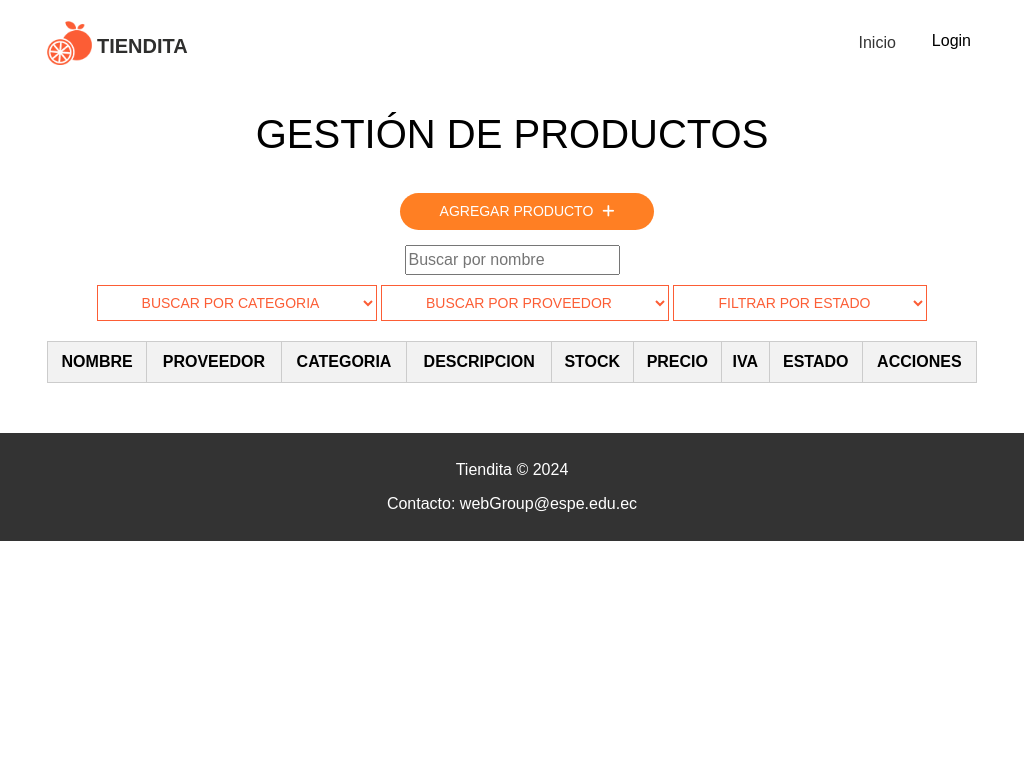
it: API productos › Agregar producto esta visible
Click the button "Agregar Producto".
click(528, 212)  # box top-left (400, 193), bottom-right (655, 230)
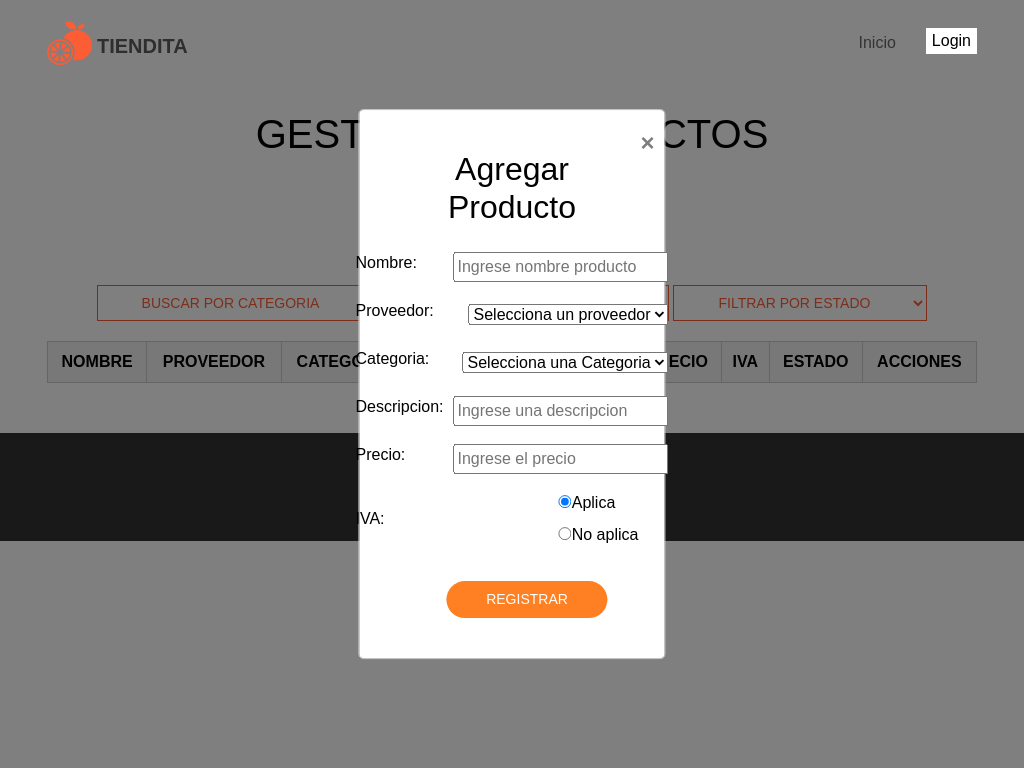
Check: the element with class "modal" is shown
